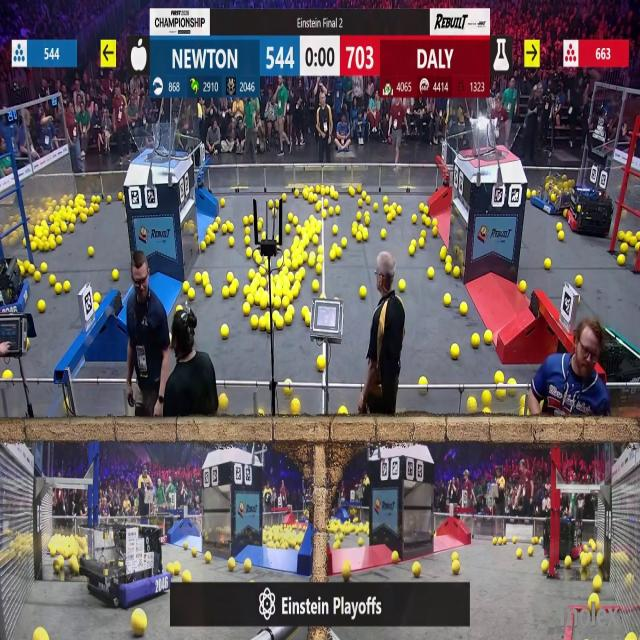ball_ground: (132, 612, 147, 637), (218, 394, 228, 409), (290, 398, 299, 414), (593, 578, 602, 593), (343, 562, 351, 578), (414, 562, 422, 577), (34, 630, 46, 640), (468, 397, 476, 412), (317, 356, 325, 370), (471, 335, 479, 349), (220, 324, 228, 338), (485, 332, 493, 346), (540, 560, 548, 574), (182, 570, 191, 582), (273, 296, 282, 308), (484, 391, 492, 404), (452, 561, 460, 574), (244, 559, 252, 572), (452, 345, 459, 359), (312, 280, 320, 292), (276, 318, 284, 330), (258, 318, 266, 330), (596, 554, 604, 566), (251, 316, 258, 329), (273, 285, 282, 295), (243, 305, 251, 316), (495, 372, 503, 383), (308, 256, 316, 267), (284, 314, 292, 325), (294, 270, 302, 281), (498, 389, 506, 400), (575, 275, 582, 287), (38, 302, 45, 314), (445, 293, 452, 305), (543, 257, 550, 269), (194, 273, 201, 285), (460, 304, 467, 316), (205, 285, 212, 297), (227, 558, 234, 570), (282, 295, 289, 307), (174, 562, 181, 574), (262, 298, 269, 310), (253, 294, 260, 306), (419, 377, 427, 387), (282, 285, 290, 295), (187, 289, 194, 300), (453, 268, 460, 279), (230, 285, 237, 296), (48, 275, 55, 286), (203, 273, 210, 284), (28, 265, 35, 276), (392, 552, 398, 564), (112, 270, 118, 282), (520, 280, 526, 292), (398, 280, 404, 292), (360, 286, 366, 298), (222, 286, 228, 298), (306, 314, 312, 326), (442, 248, 448, 260), (291, 261, 297, 273), (246, 294, 254, 303), (292, 285, 298, 297), (316, 254, 324, 263), (316, 265, 323, 275), (40, 264, 47, 274), (564, 558, 571, 568), (254, 254, 261, 264), (619, 232, 626, 242), (283, 256, 290, 266), (226, 273, 232, 284), (206, 553, 212, 564), (168, 562, 173, 575), (244, 237, 251, 246), (4, 369, 11, 378), (340, 408, 347, 417), (273, 311, 280, 320), (284, 223, 291, 232), (622, 244, 629, 253), (396, 206, 403, 215), (38, 242, 45, 251), (626, 233, 633, 242), (290, 245, 297, 254), (620, 254, 626, 264), (89, 247, 95, 257), (428, 269, 434, 279), (64, 282, 70, 292), (35, 272, 41, 282), (331, 224, 337, 234), (362, 231, 368, 241), (558, 232, 564, 242), (227, 238, 233, 248), (95, 292, 101, 302), (57, 284, 63, 294), (246, 248, 252, 258), (244, 285, 250, 295), (259, 278, 265, 288), (356, 212, 362, 222), (313, 236, 319, 246), (528, 545, 534, 555), (210, 234, 216, 244), (57, 236, 63, 246), (446, 265, 452, 275), (31, 242, 37, 252), (321, 209, 327, 219), (277, 260, 283, 270), (49, 240, 55, 250), (62, 222, 68, 232), (222, 222, 228, 232), (589, 600, 594, 612), (304, 307, 310, 317), (363, 215, 369, 225), (296, 256, 302, 266), (304, 190, 310, 200), (452, 553, 459, 561), (317, 246, 324, 254), (628, 633, 636, 640), (292, 238, 299, 246), (419, 239, 425, 248), (410, 247, 416, 256), (517, 550, 523, 559), (387, 214, 393, 223), (381, 231, 387, 240), (342, 239, 348, 248), (258, 268, 264, 277), (316, 203, 322, 212), (420, 204, 426, 213), (288, 273, 294, 282), (259, 233, 265, 242), (70, 214, 76, 223), (338, 248, 343, 258), (295, 224, 300, 234), (510, 379, 517, 386), (94, 304, 101, 311), (356, 235, 362, 243), (329, 252, 335, 260), (425, 218, 431, 226), (269, 201, 275, 209), (323, 200, 329, 208), (316, 225, 322, 233), (557, 222, 563, 230), (256, 222, 262, 230), (284, 249, 290, 257), (69, 224, 75, 232), (447, 255, 453, 263), (248, 215, 254, 223), (592, 594, 598, 602), (492, 536, 498, 544), (304, 240, 310, 248), (335, 191, 341, 199), (305, 220, 311, 228), (18, 268, 24, 276), (350, 188, 356, 196), (183, 281, 188, 290), (249, 271, 254, 280), (413, 214, 418, 223), (287, 213, 292, 222), (191, 549, 196, 558), (292, 216, 297, 225), (361, 192, 366, 201), (80, 215, 86, 222), (412, 240, 418, 247), (484, 409, 491, 415), (90, 208, 96, 215), (258, 411, 264, 418), (365, 195, 371, 202), (95, 205, 101, 212), (501, 536, 507, 543), (358, 224, 364, 231), (331, 244, 337, 251), (284, 388, 290, 395), (23, 240, 29, 247), (202, 242, 206, 252), (244, 216, 249, 224), (358, 538, 363, 546), (596, 600, 600, 610), (384, 205, 389, 213), (527, 189, 532, 197), (358, 201, 363, 209), (563, 210, 568, 218), (336, 540, 341, 548), (371, 204, 376, 212), (276, 201, 281, 209), (176, 306, 182, 312), (421, 229, 425, 238), (432, 229, 436, 238), (286, 379, 292, 385), (243, 226, 248, 233), (107, 195, 112, 202), (328, 208, 333, 215), (294, 190, 299, 197), (352, 222, 356, 230), (337, 207, 341, 215), (228, 224, 232, 232), (432, 218, 436, 226), (282, 192, 286, 200), (121, 194, 125, 202), (532, 536, 536, 544), (384, 195, 388, 203), (93, 195, 98, 201), (250, 578, 255, 584), (220, 200, 224, 207), (213, 224, 217, 231), (184, 540, 188, 547), (216, 216, 220, 223), (320, 292, 324, 299), (514, 536, 518, 542), (27, 340, 30, 348)
goal: (464, 122, 521, 160), (130, 130, 188, 160)
robot_blue: (83, 522, 170, 608), (535, 169, 576, 213), (0, 261, 30, 316)
robot_red: (566, 185, 616, 238)
